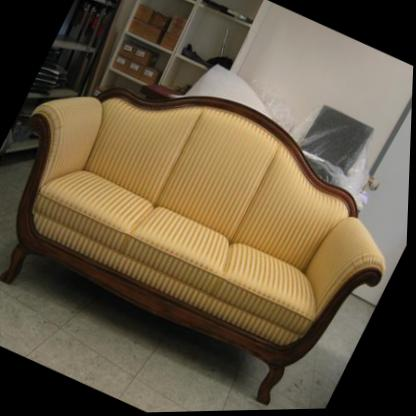Sofa: (0, 21, 415, 416)
